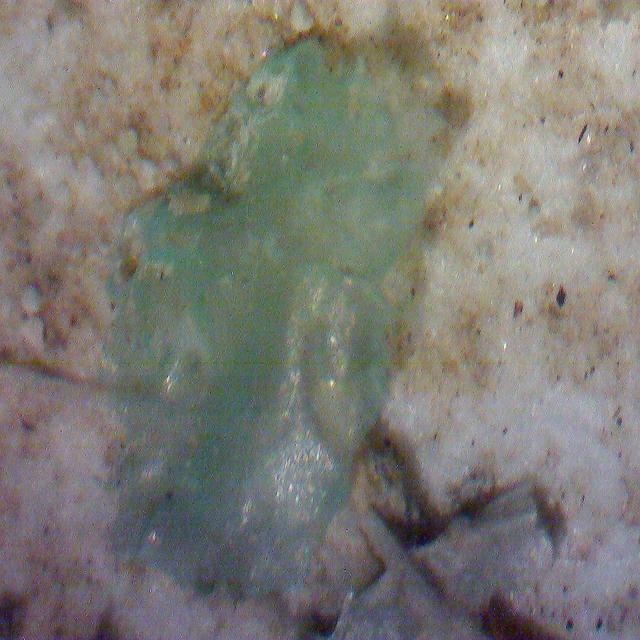microplastic: (35, 0, 476, 625)
